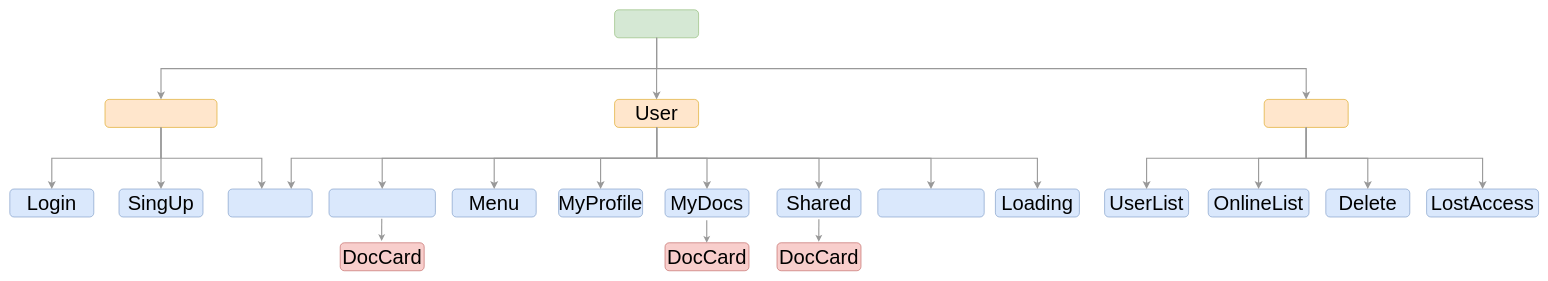
This 1548x281 diagram has some shape labels left out. Here are the shapes that lost their labels. From the top down, the box of each, then its label:
(614, 9, 699, 38): App
(104, 99, 217, 127): HomePage
(1264, 99, 1348, 127): Editor
(228, 188, 312, 217): Header
(328, 188, 435, 217): UserHome
(877, 188, 984, 217): CreateDoc
